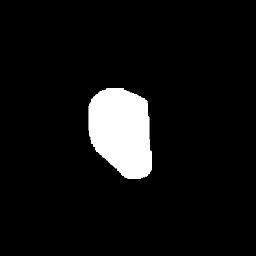mass: (89, 92, 147, 171)
